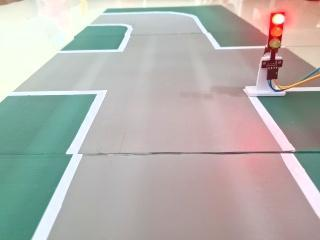red: (257, 8, 291, 74)
